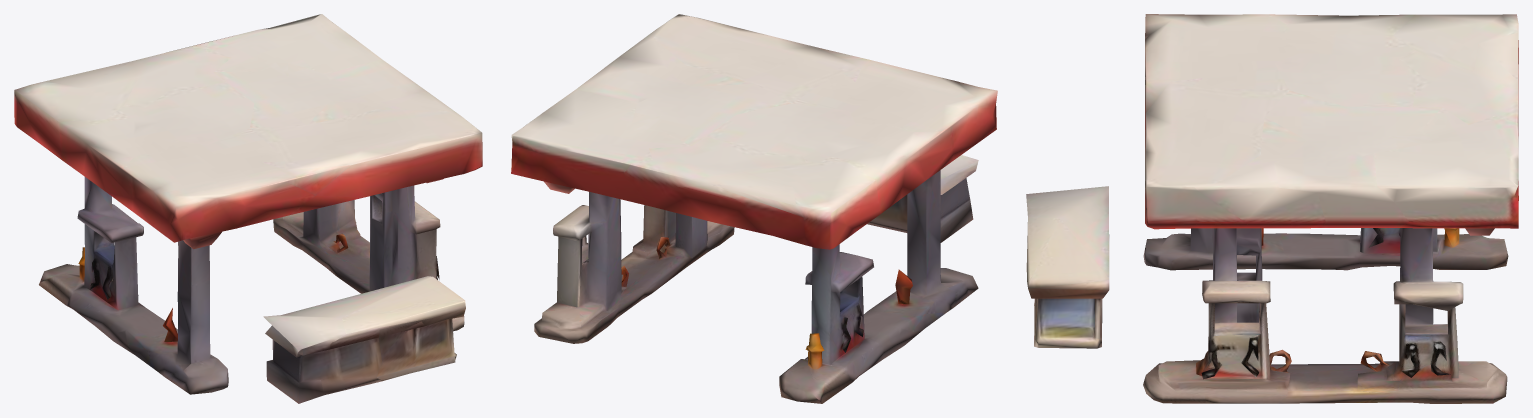
The model's file is posto.glb.
3 renders of one model, left to right at view 1: azimuth 30°, elevation 25°; view 2: azimuth 150°, elevation 25°; view 3: azimuth 270°, elevation 25°, orthographic. The views are drawn at different scales.
Parts seen in each view (by area): view 1: tripo_node_61d374b1-a801-4db3-acfa-5769f8e18dae; view 2: tripo_node_61d374b1-a801-4db3-acfa-5769f8e18dae; view 3: tripo_node_61d374b1-a801-4db3-acfa-5769f8e18dae.
Part boxes in pixels (bbox=[...]): tripo_node_61d374b1-a801-4db3-acfa-5769f8e18dae: bbox=[14, 14, 482, 403]; tripo_node_61d374b1-a801-4db3-acfa-5769f8e18dae: bbox=[511, 14, 997, 403]; tripo_node_61d374b1-a801-4db3-acfa-5769f8e18dae: bbox=[1026, 14, 1518, 403].
Size of the model in its own units: 0.8332 by 0.5007 by 1.
Materials: 1 (1 with a texture image).
